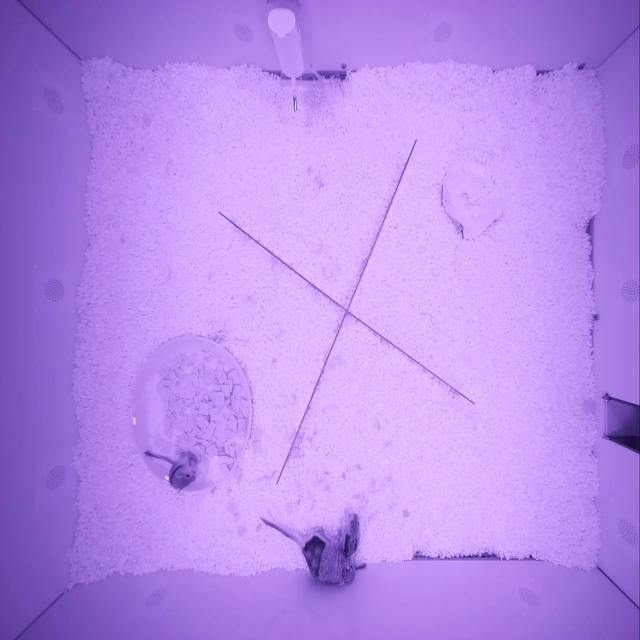adult_back: (302, 528, 355, 585)
pup_h_stripe: (167, 450, 198, 493)
pup_v_stripe: (340, 512, 360, 557)
